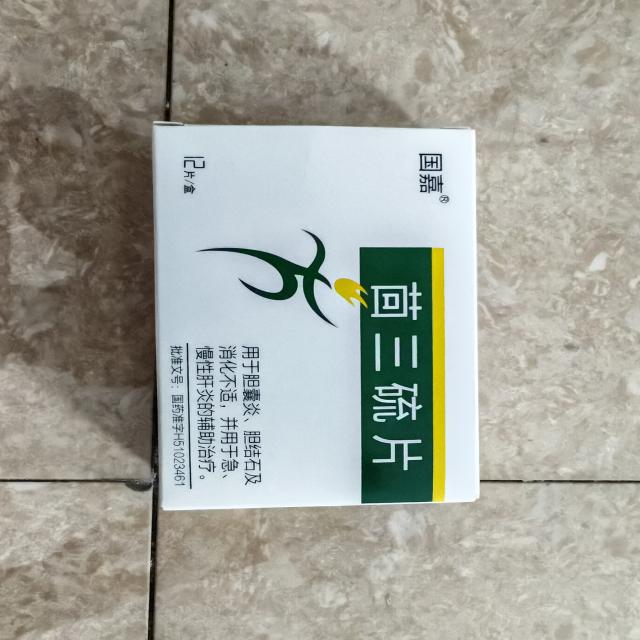box: (142, 114, 488, 516)
